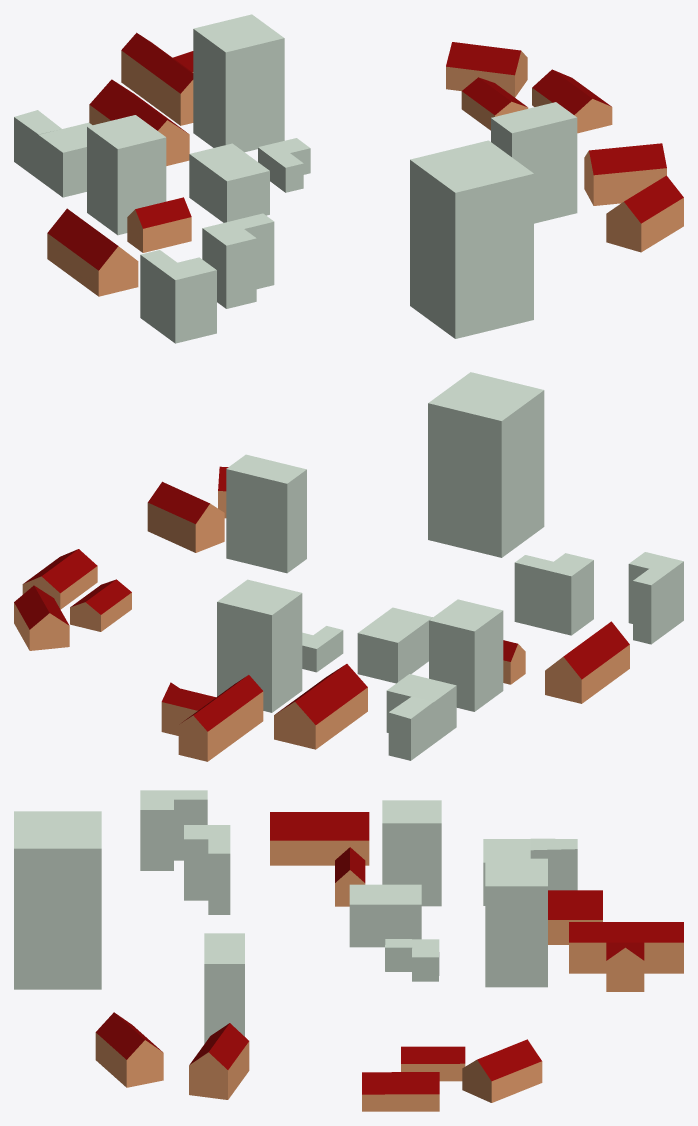
The model's file is RailDistrict.fbx.
3 renders of one model, top to bottom at view 1: azimuth 30°, elevation 25°; view 2: azimuth 150°, elevation 25°; view 3: azimuth 270°, elevation 25°, orthographic. The views are drawn at different scales.
Visible parts, largest first — view 1: Cube.020; view 2: Cube.020; view 3: Cube.020.
Boxes of the visible parts, bbox=[...] form: Cube.020: bbox=[14, 14, 683, 343]; Cube.020: bbox=[14, 372, 683, 761]; Cube.020: bbox=[14, 790, 683, 1111].
Bounding box in the file's own units: 927 × 231 × 992.
